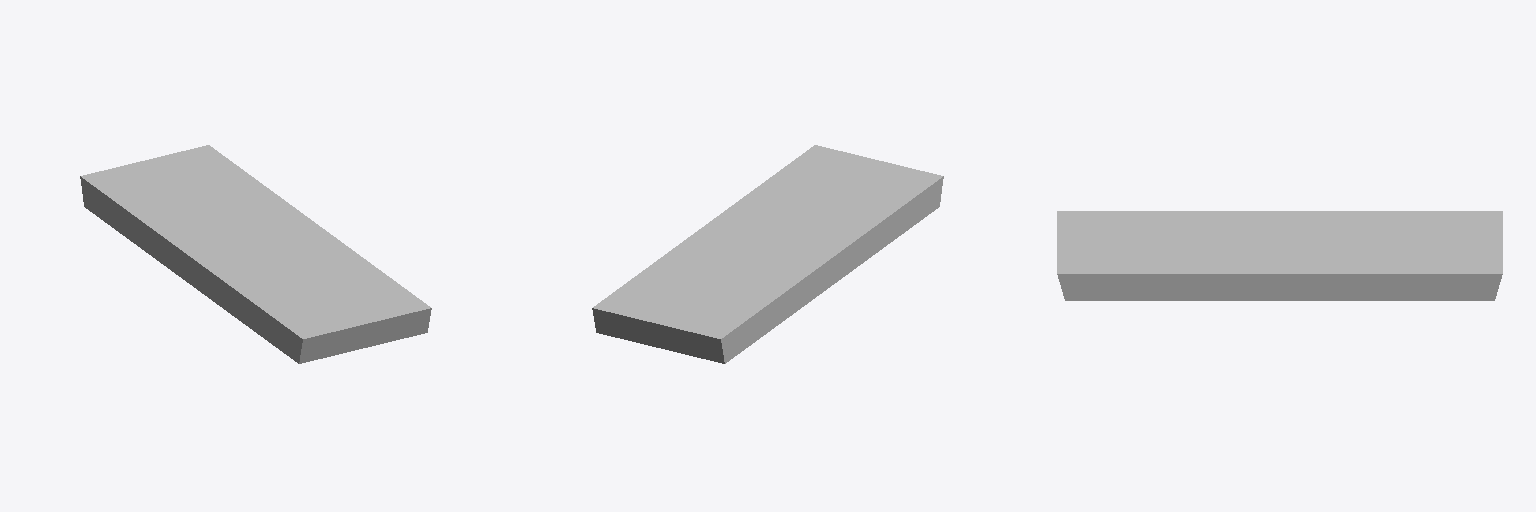
The model's file is remote.obj.
The picture shows the model from 3 angles: view 1: azimuth 30°, elevation 25°; view 2: azimuth 150°, elevation 25°; view 3: azimuth 270°, elevation 25°; orthographic projection.
Visible parts, largest first — view 1: Cube; view 2: Cube; view 3: Cube.
Boxes of the visible parts, <box> form: Cube: <box>80,145,431,363</box>; Cube: <box>592,145,943,363</box>; Cube: <box>1057,211,1502,300</box>.
Bounding box in the file's own units: 2 × 0.4123 × 6.